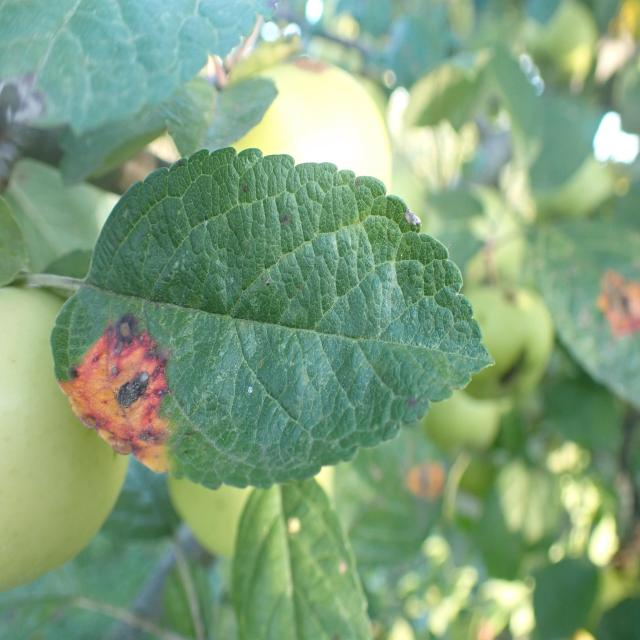Rust: (44, 300, 191, 494), (580, 233, 640, 342)
